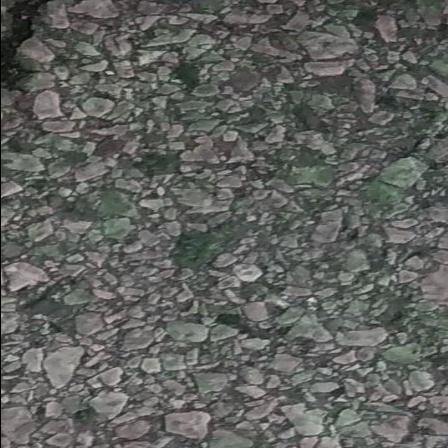crack: (0, 0, 52, 96)
